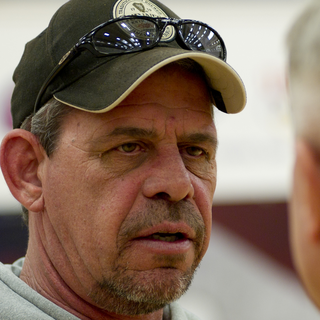eye: (107, 138, 150, 161), (178, 136, 211, 165)
